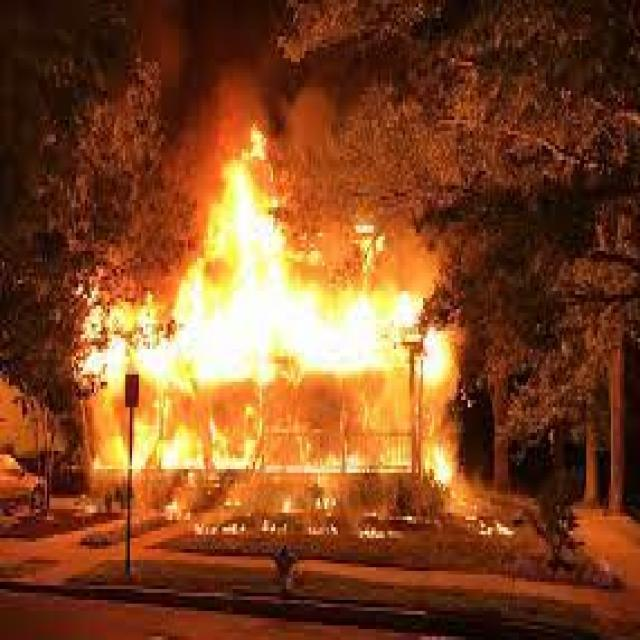Fire: (101, 314, 434, 499), (179, 256, 431, 406)
Smoke: (153, 3, 329, 221)
